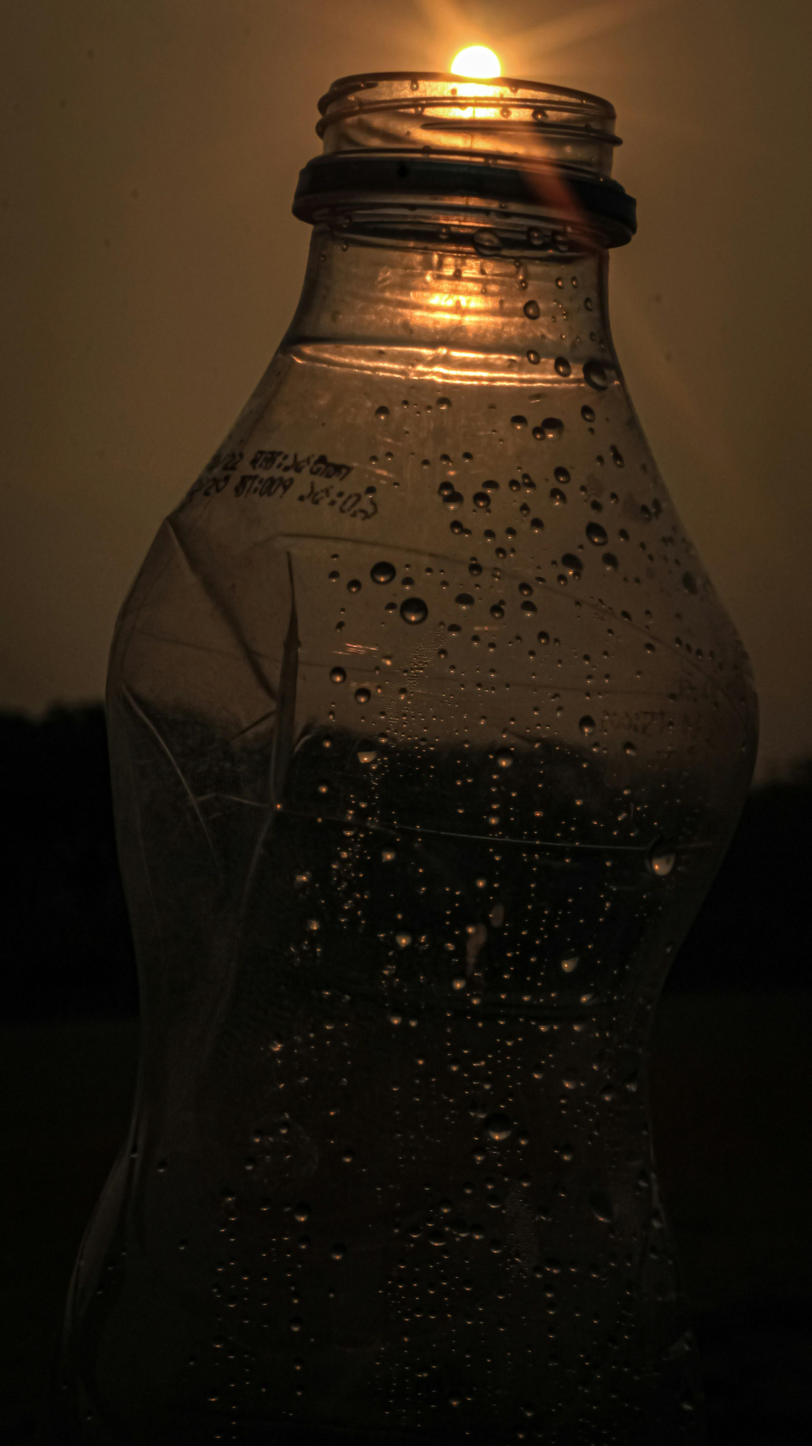Bottle-Detection: (31, 11, 789, 1434)
